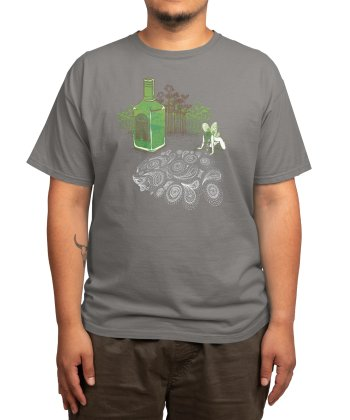design: (116, 75, 228, 210)
